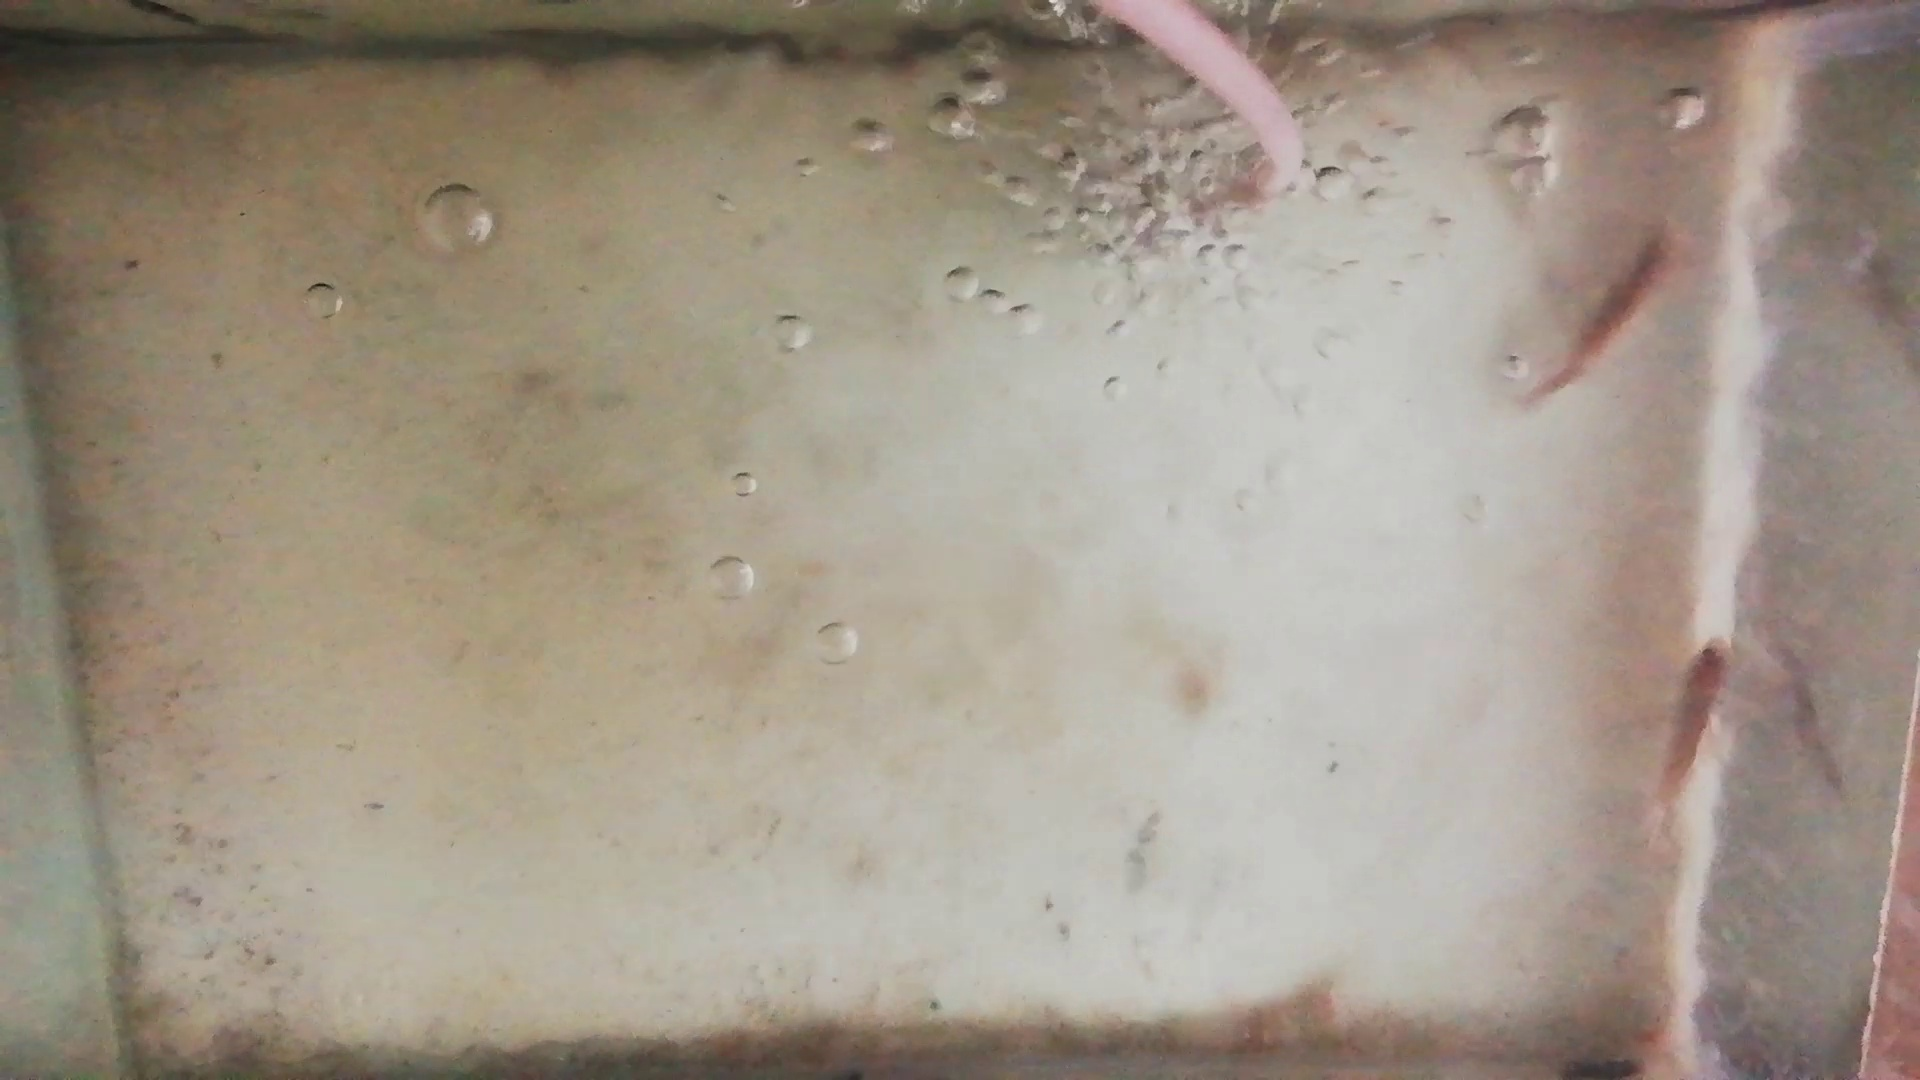fish: (1536, 218, 1689, 404), (1658, 636, 1730, 808)
